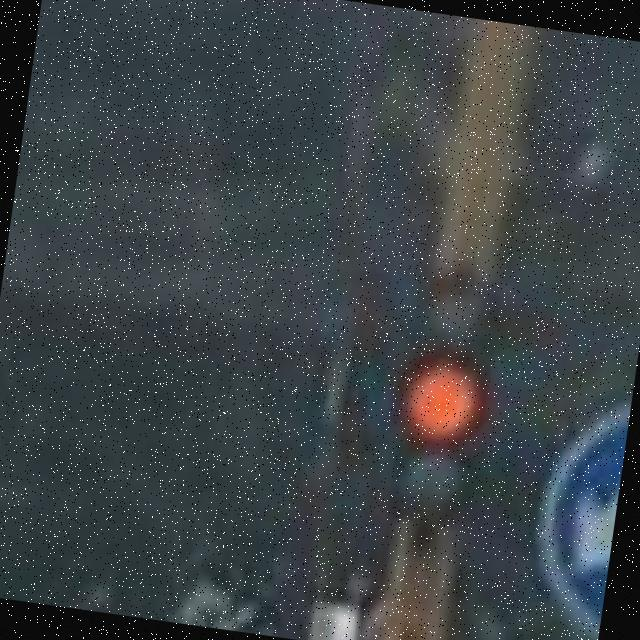Zolte swiatlo: (385, 272, 509, 534)
